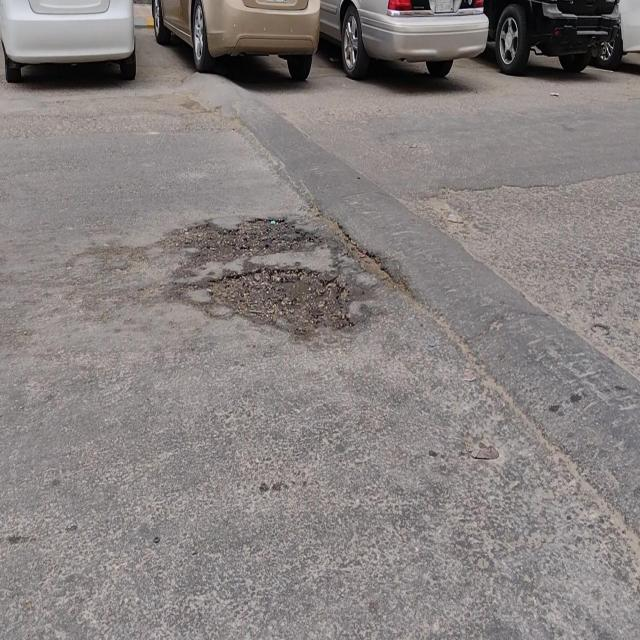Potholes: (205, 260, 357, 338), (181, 210, 317, 268)
